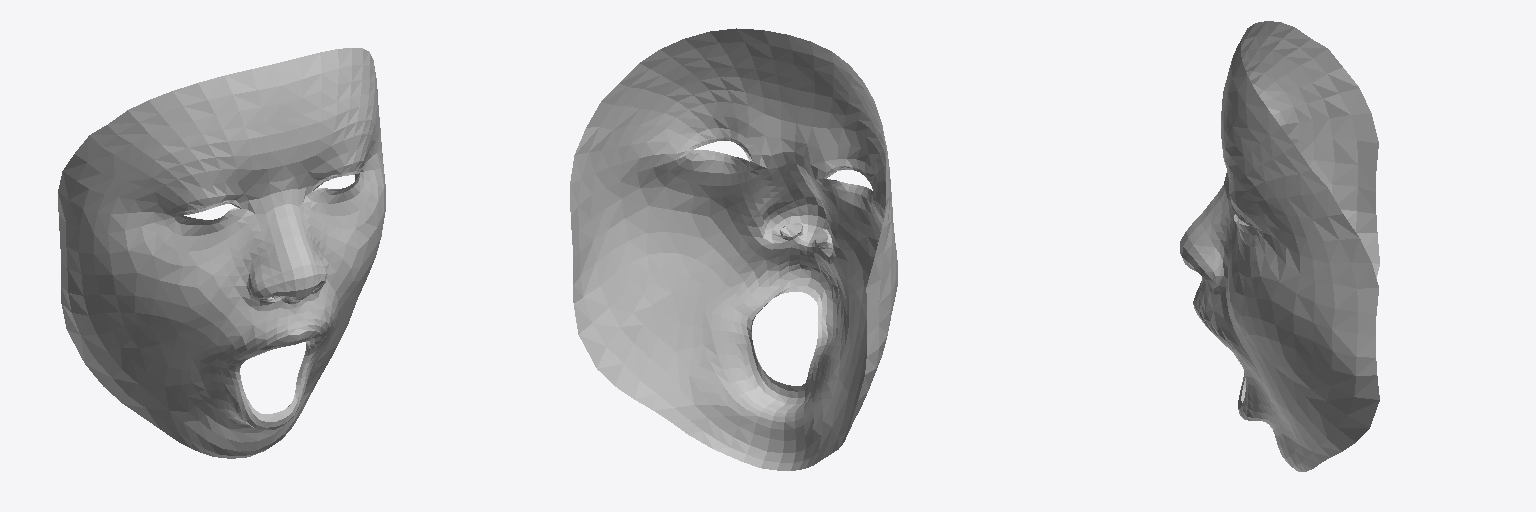
File: jawOpen.obj
3 views of the same model, side by side, from view 1: azimuth 30°, elevation 25°; view 2: azimuth 150°, elevation 25°; view 3: azimuth 270°, elevation 25° (orthographic).
Visible parts, largest first — view 1: default; view 2: default; view 3: default.
Boxes of the visible parts, <box> form: default: <box>58,48,385,458</box>; default: <box>570,28,897,470</box>; default: <box>1180,21,1379,471</box>.
Size of the model in its own units: 0.1624 by 0.209 by 0.0917.